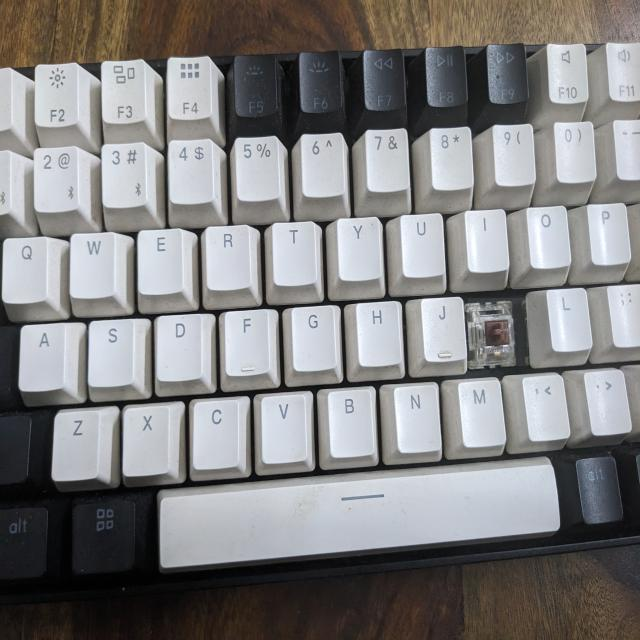C: (468, 298, 528, 366)
